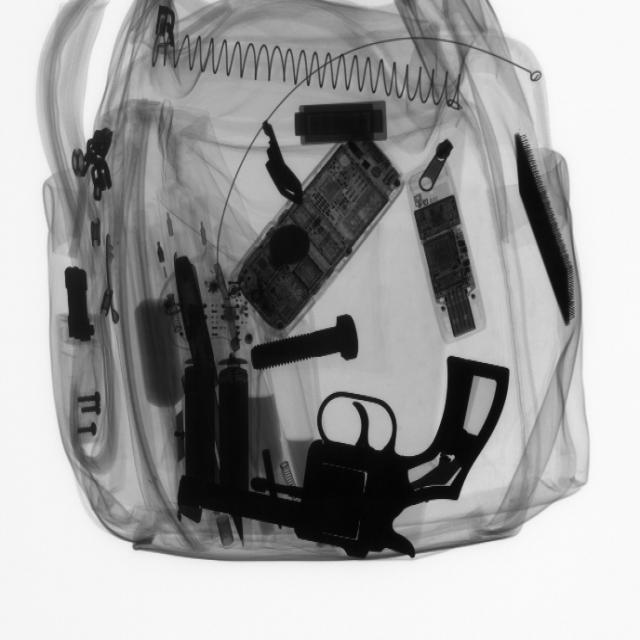GUN: (158, 344, 529, 559)
